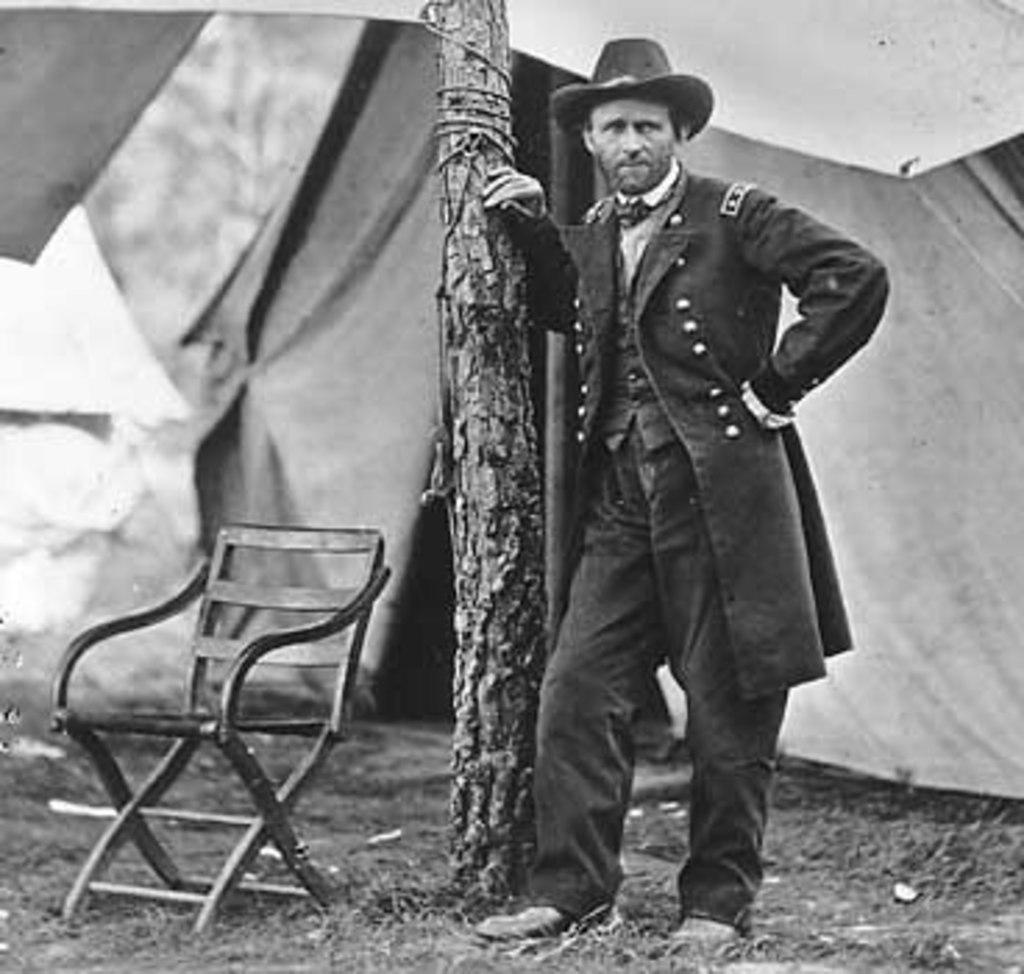Hat: (550, 38, 710, 142)
